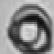correct: (7, 0, 53, 54)
